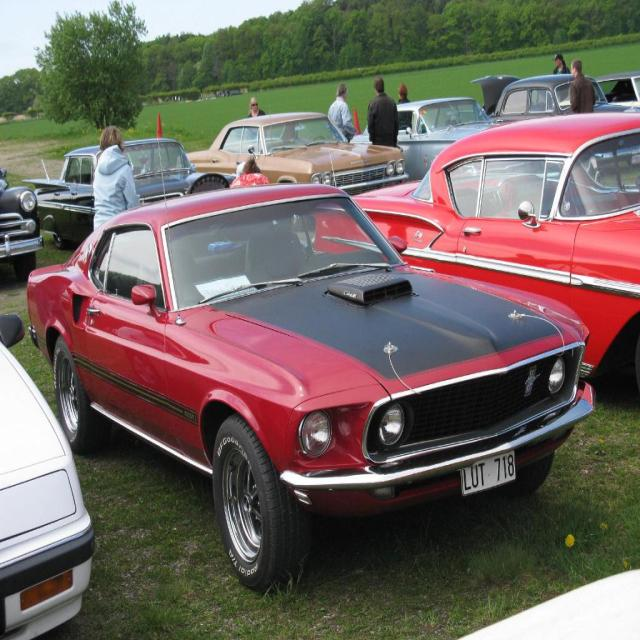car: (23, 138, 594, 599)
